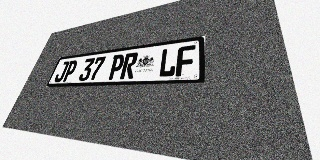3: (78, 58, 95, 81)
7: (88, 56, 106, 81)
F: (175, 45, 196, 77)
J: (53, 61, 70, 82)
L: (158, 47, 178, 77)
P: (107, 54, 126, 80), (61, 60, 79, 82)
R: (119, 52, 139, 79)
